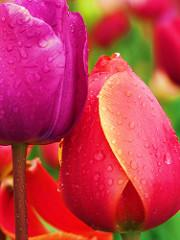tulip: (62, 54, 180, 231), (0, 0, 90, 146)
